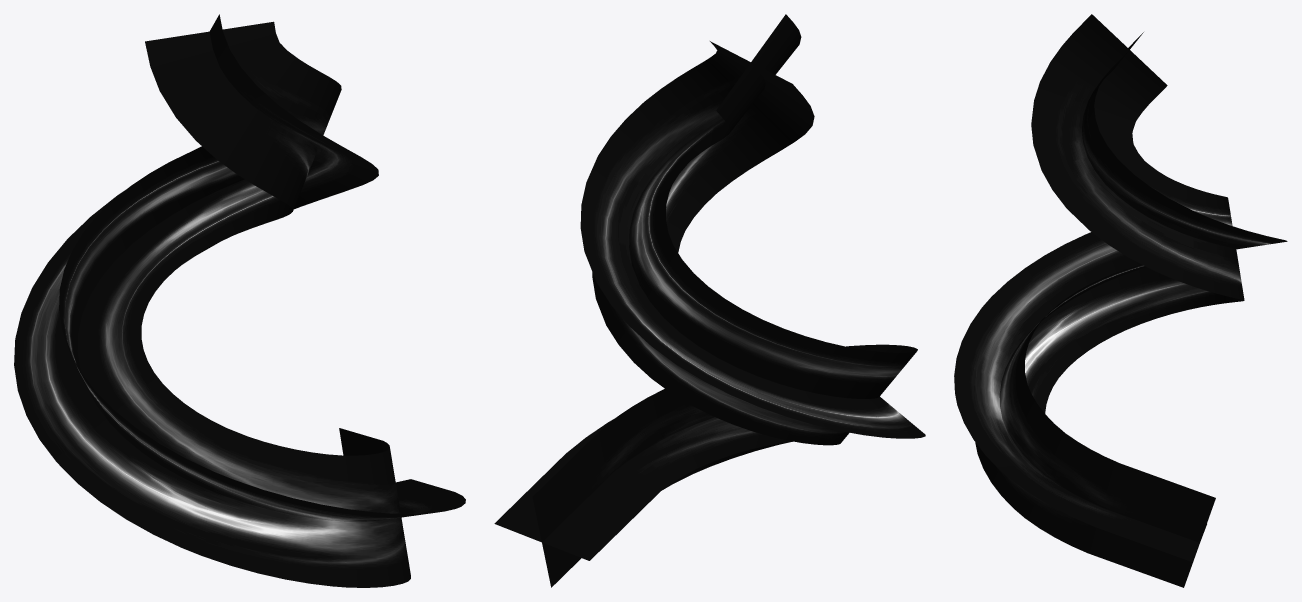
The model's file is 0373_luoxuan_M.glb.
3 renders of one model, left to right at view 1: azimuth 30°, elevation 25°; view 2: azimuth 150°, elevation 25°; view 3: azimuth 270°, elevation 25°, orthographic. The views are drawn at different scales.
Size of the model in its own units: 1.48 by 2.2 by 1.34.
1 material, 1 textured.
